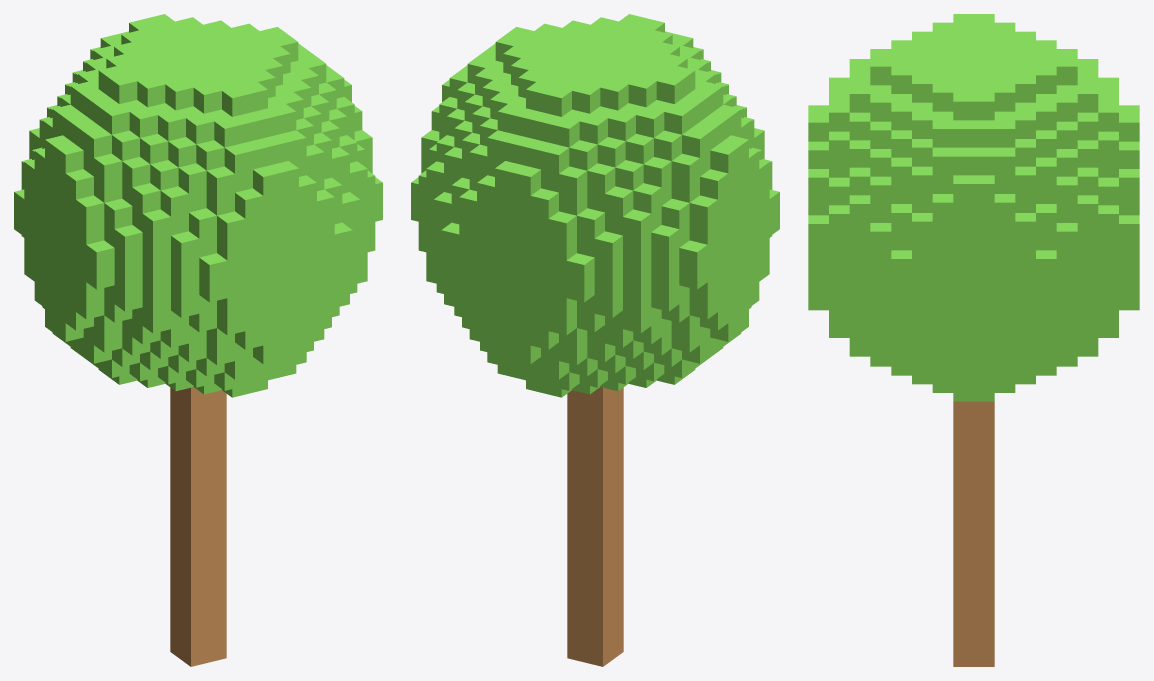
The model's file is Tree_3.obj.
3 renders of one model, left to right at view 1: azimuth 30°, elevation 25°; view 2: azimuth 150°, elevation 25°; view 3: azimuth 270°, elevation 25°, orthographic.
Bounding box in the file's own units: 1.6 × 3.2 × 1.6.
Materials: 1 (1 with a texture image).
